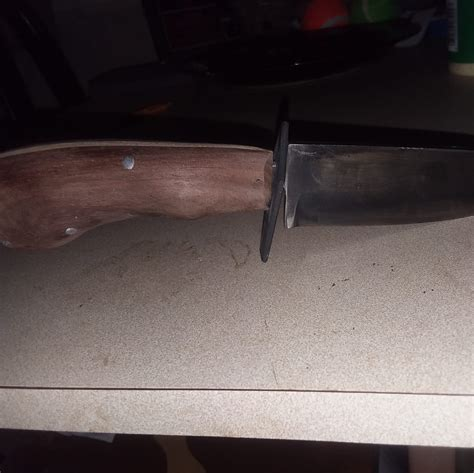knife: (7, 132, 474, 257)
